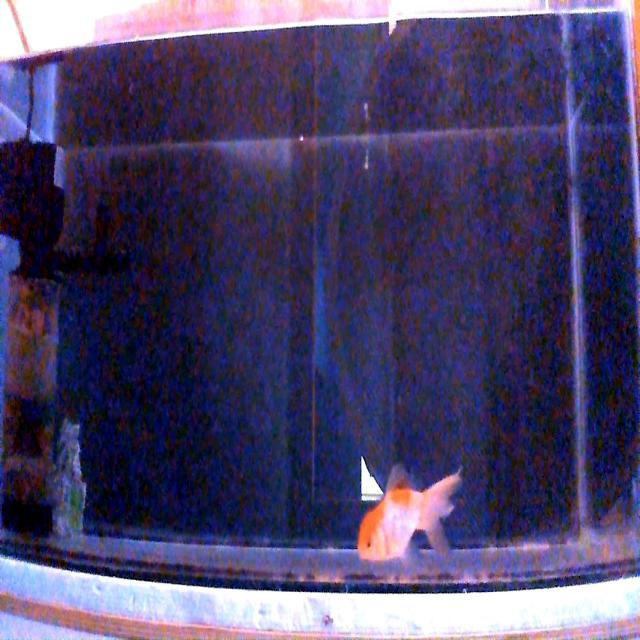fish: (356, 462, 463, 564)
